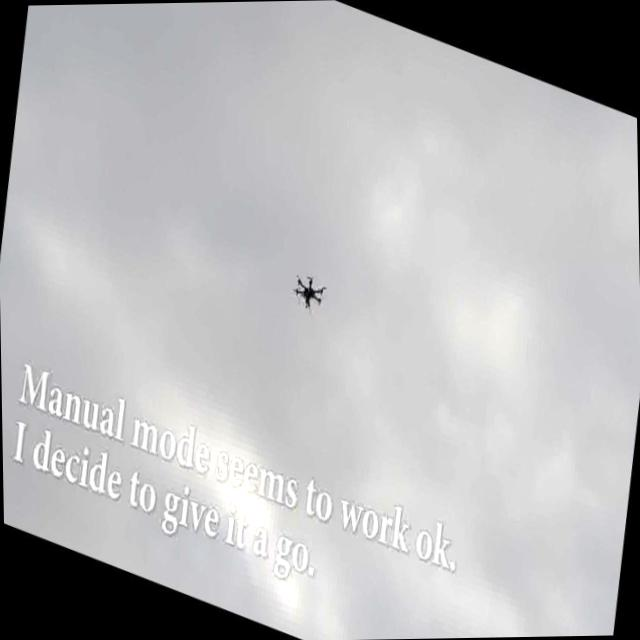drone: (285, 258, 330, 320)
